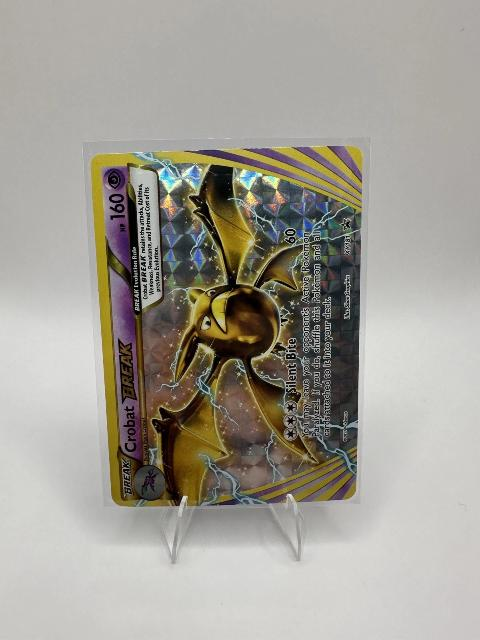Card: (84, 141, 367, 510)
Name: (112, 331, 143, 461)
